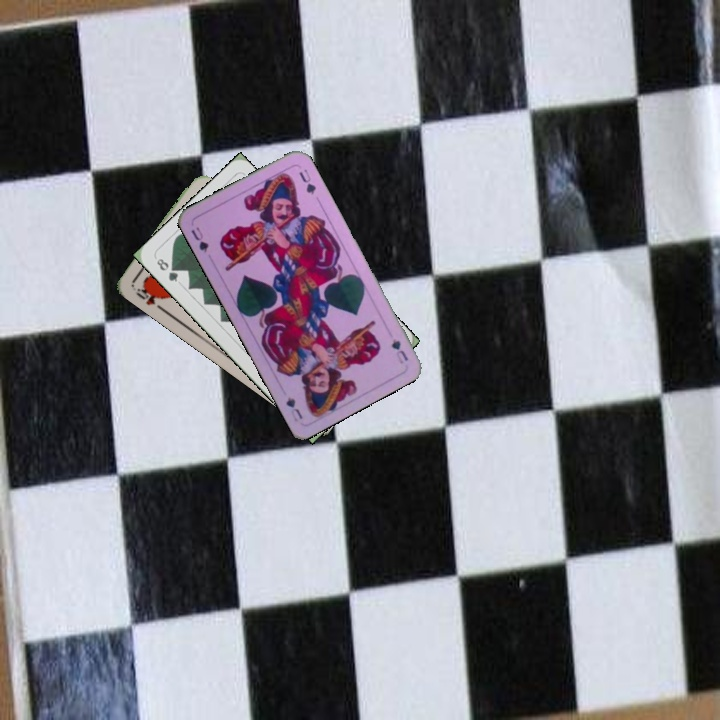G8: (152, 254, 181, 285)
GU: (187, 223, 211, 255), (387, 334, 411, 366)
HO: (132, 282, 166, 313)
